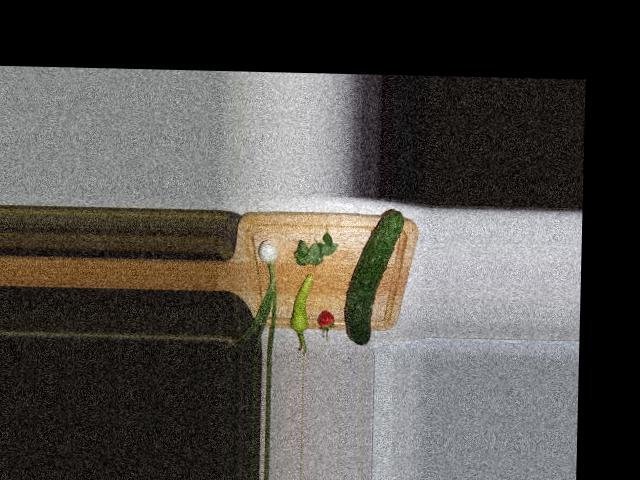cucumber: (345, 209, 404, 345)
